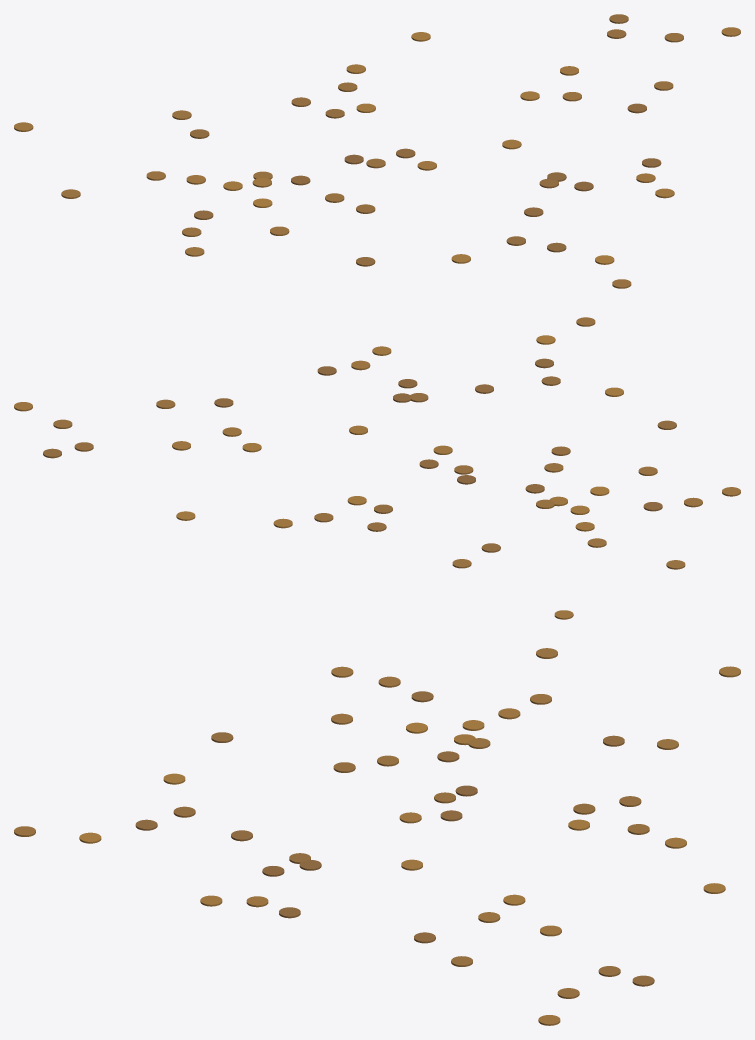
The model's file is choco_heart3.glb.
3 renders of one model, top to bottom at view 1: azimuth 30°, elevation 25°; view 2: azimuth 150°, elevation 25°; view 3: azimuth 270°, elevation 25°, orthographic. The views are drawn at different scales.
Size of the model in its own units: 2.43 by 0.005 by 1.98.
